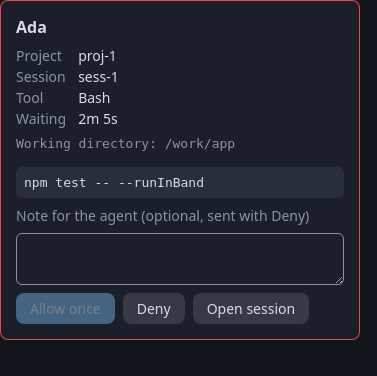
Test: ActionCard: Allow once, Deny, Open session › copy-only: copies the session id and working directory, and says so
Click the button "Open session". click: [251, 308]
box: top-left (193, 293), bottom-right (309, 324)
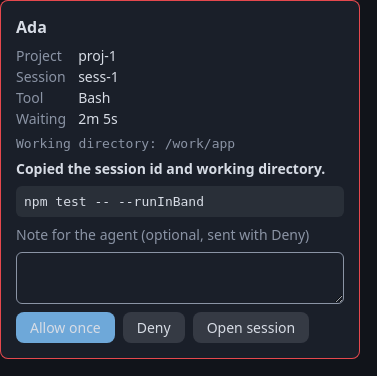
expect the element with test id "action-card" shows "copied": met, box top-left (16, 159), bottom-right (325, 178)
expect the button "Allow once" is enabled: met, box top-left (16, 312), bottom-right (115, 343)
